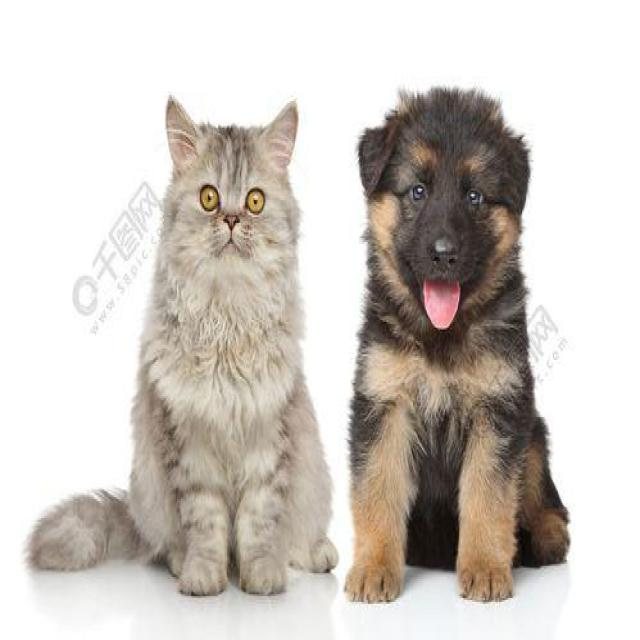cat: (9, 61, 336, 636)
dog: (328, 51, 592, 624)
